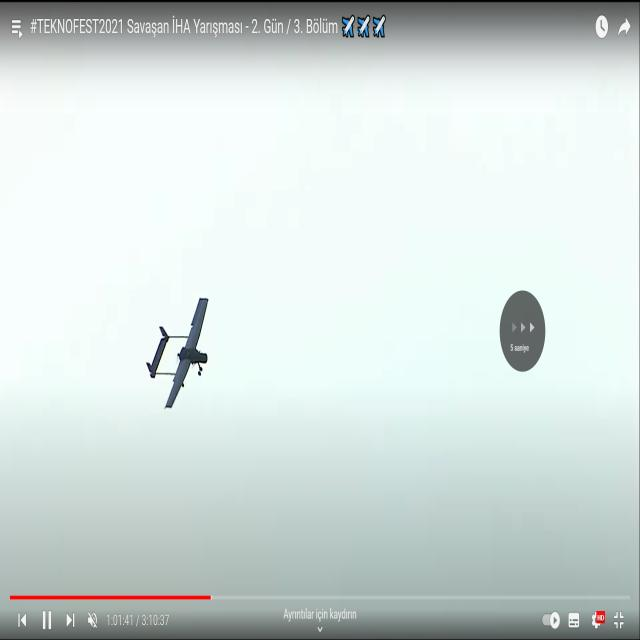iha: (177, 327, 179, 378)
